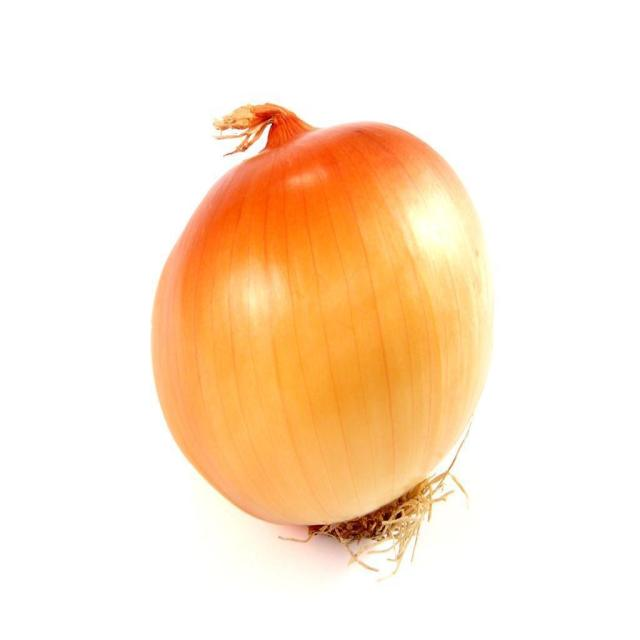Onion: (152, 102, 496, 576)
